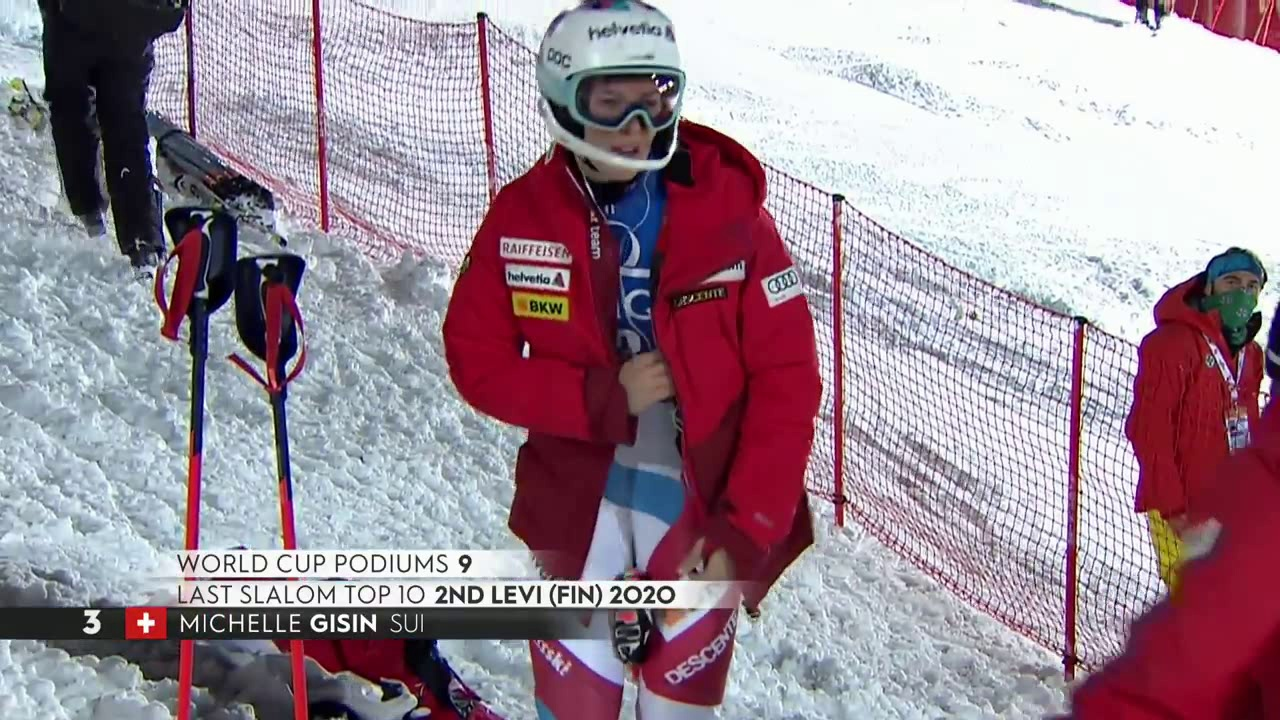audi: (765, 269, 800, 299)
